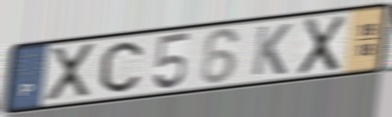5: (152, 31, 192, 91)
6: (198, 26, 244, 86)
C: (98, 40, 145, 95)
K: (249, 22, 294, 78)
X: (296, 13, 349, 78), (46, 41, 97, 104)
